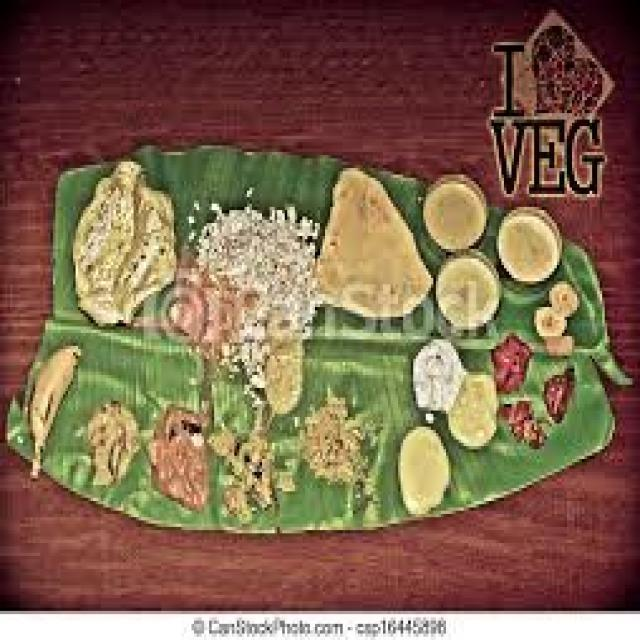papad: (62, 161, 184, 326)
rice: (178, 199, 326, 400)
roti: (62, 162, 183, 325), (312, 167, 430, 322)
veg-fry: (144, 401, 215, 510)
